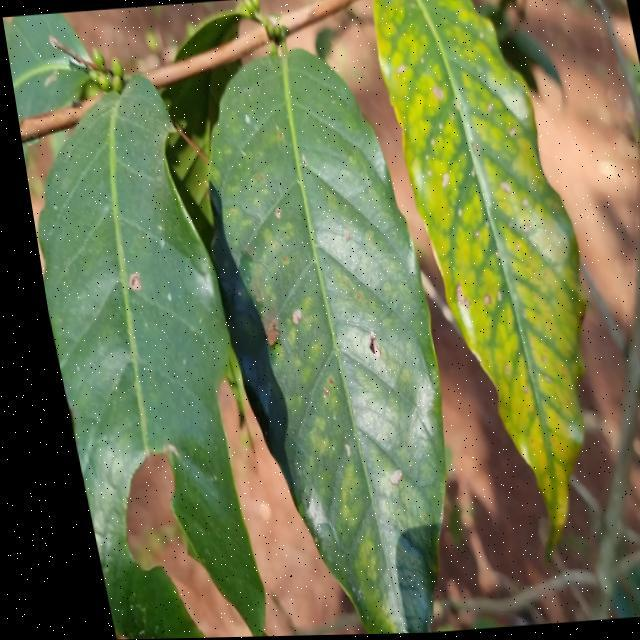leaves: (176, 36, 488, 640), (352, 0, 640, 552), (14, 69, 275, 640)
